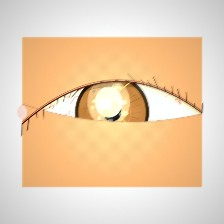corneal_ulcer: (83, 82, 134, 122)
